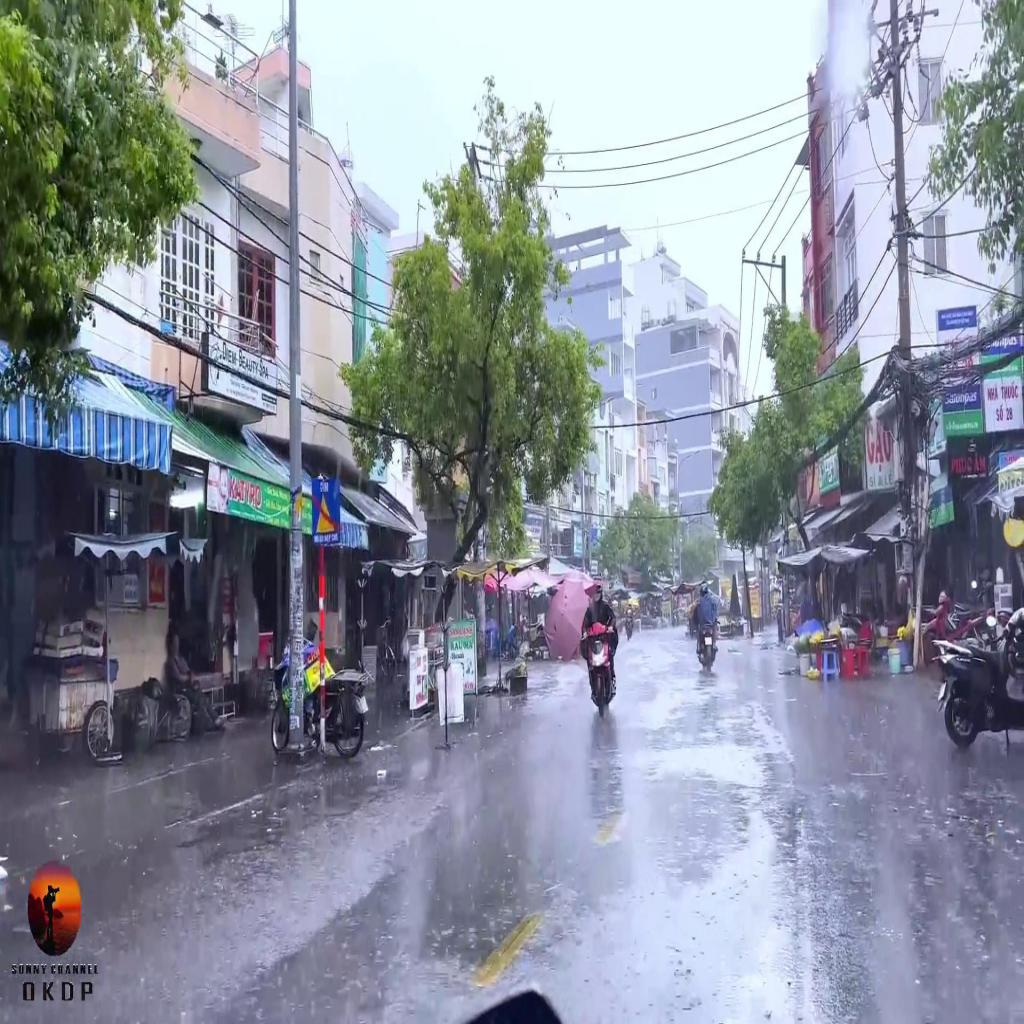khac: (311, 477, 341, 546)
